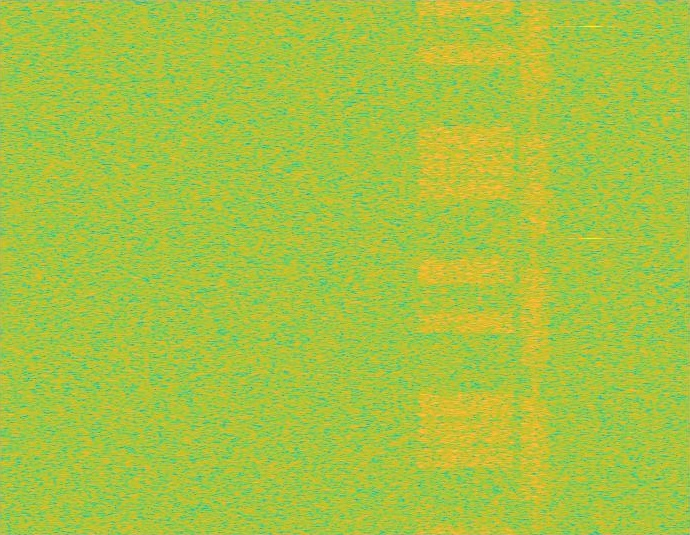5G: (518, 0, 552, 534)
DSSS: (531, 0, 539, 534)
LTE: (414, 0, 518, 534)
Radar: (585, 0, 598, 534)
